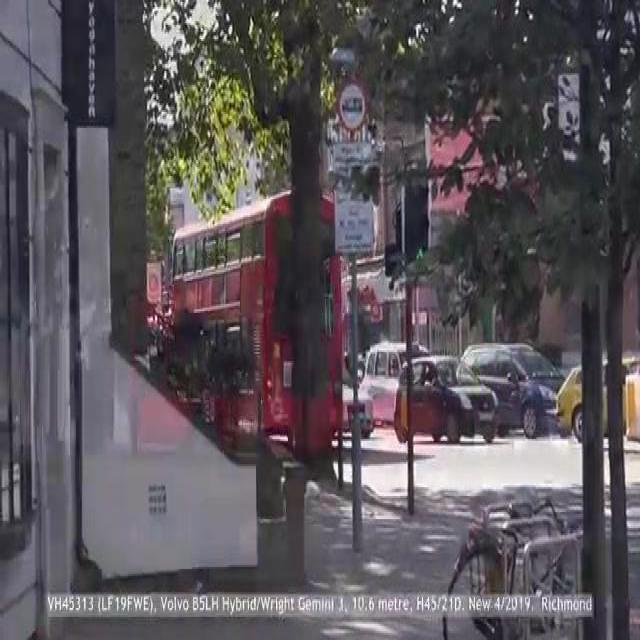motorcycle: (183, 187, 340, 462)
